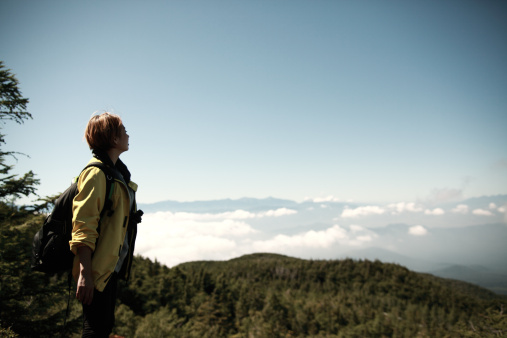em pe: (51, 113, 143, 330)
